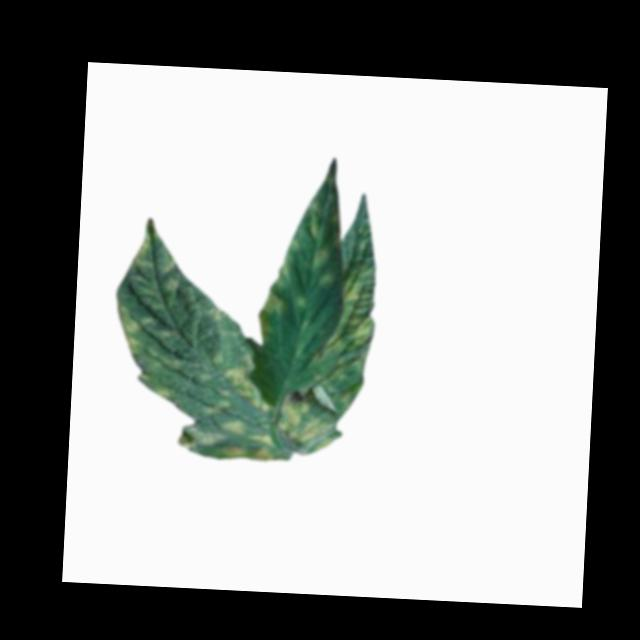Leaf_Mold: (281, 261, 379, 460), (178, 346, 277, 462), (111, 303, 177, 401), (256, 285, 286, 345), (312, 248, 338, 265)
